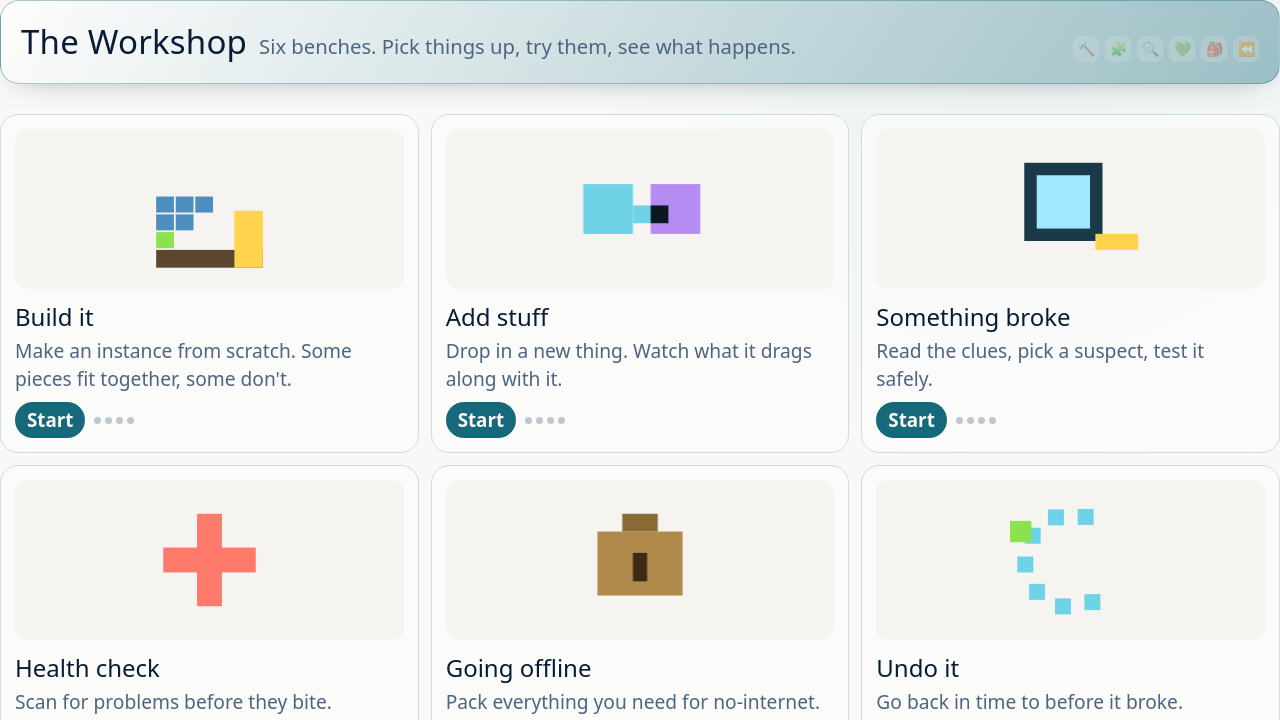
Scenario: Workshop › build bench uses fictional loader names, never real products
This screenshot has width=1280, height=720.
Click the heading "Build it" at [54, 316], box [15,300,94,332]
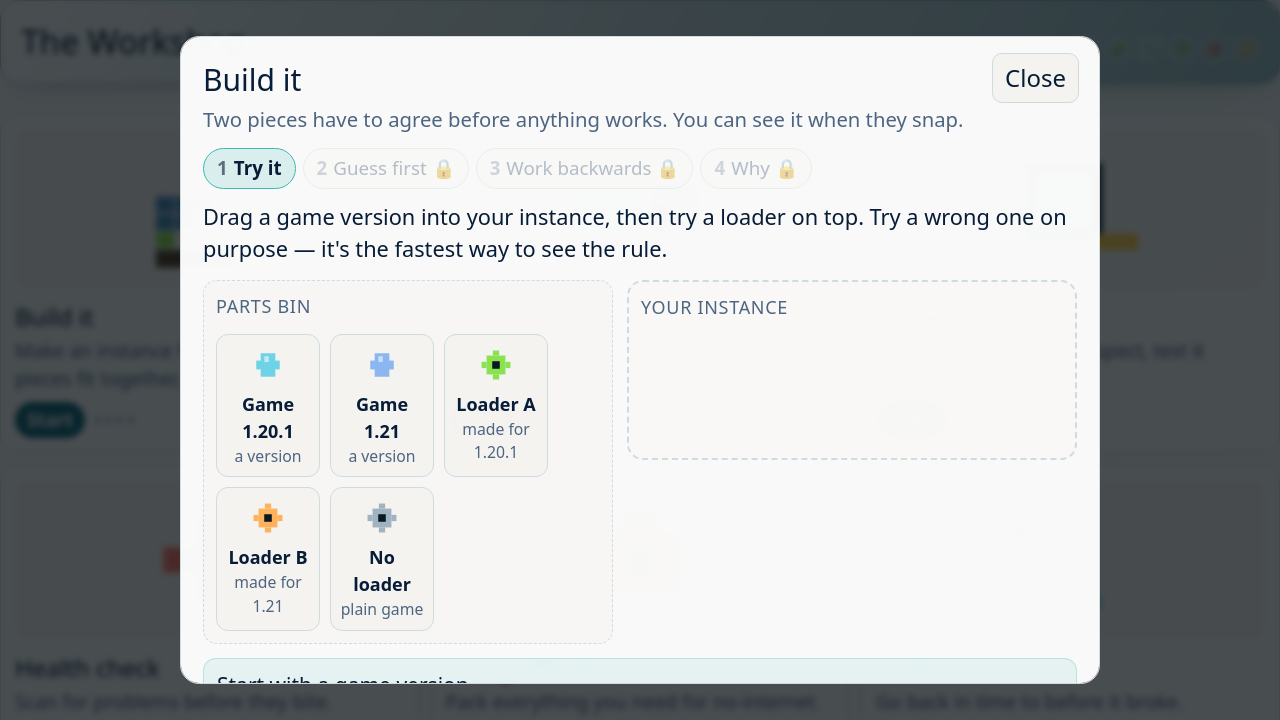
Check: the element with class "ws-piece" showing "Loader A made for 1.20.1" is shown, box [444,334,548,477]
Check: the element with class "ws-piece" shows "Loader B", box [228,545,308,569]
Check: the element with class "ws-piece" shows "No loader", box [353,545,411,596]
